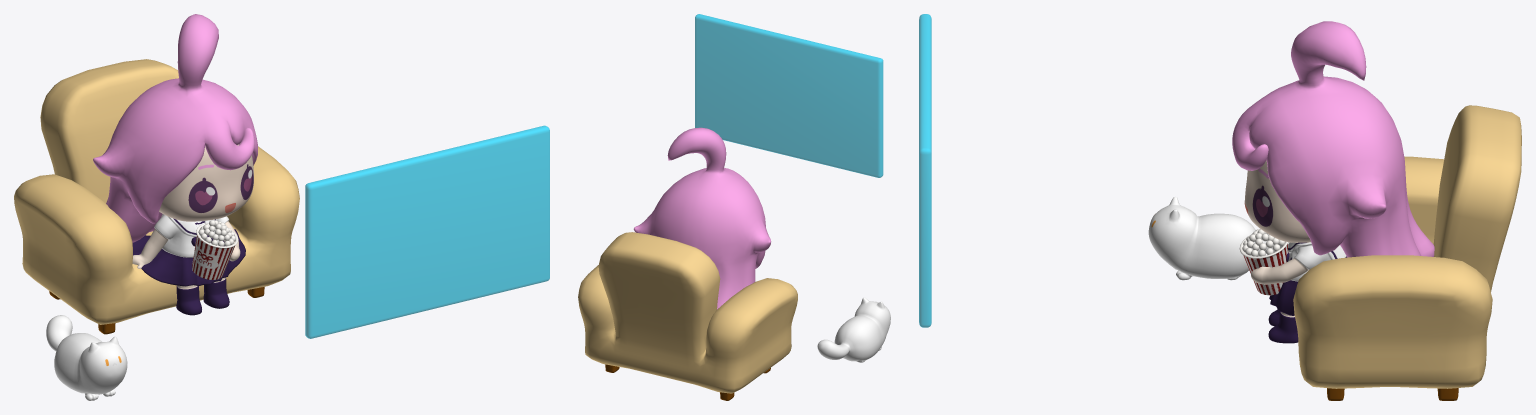
File: SEMANG_JING.glb
3 renders of one model, left to right at view 1: azimuth 30°, elevation 25°; view 2: azimuth 150°, elevation 25°; view 3: azimuth 270°, elevation 25°, orthographic. The views are drawn at different scales.
Visible parts, largest first — view 1: Box025, Box021, 444444, Box004, 789, Cylinder001; view 2: Box021, Box025, 444444, 789; view 3: Box021, 444444, 789, Box025, Box004, Cylinder001.
Part boxes in pixels (bbox=[...]): Box025: bbox=[305, 125, 549, 338]; Box021: bbox=[14, 59, 299, 334]; 444444: bbox=[93, 14, 257, 242]; Box004: bbox=[132, 214, 245, 315]; 789: bbox=[46, 315, 127, 400]; Cylinder001: bbox=[192, 220, 238, 279]; Box021: bbox=[578, 232, 797, 400]; Box025: bbox=[695, 14, 883, 177]; 444444: bbox=[633, 127, 771, 309]; 789: bbox=[817, 297, 890, 362]; Box021: bbox=[1293, 105, 1521, 400]; 444444: bbox=[1232, 21, 1434, 257]; 789: bbox=[1148, 197, 1282, 280]; Box025: bbox=[919, 14, 931, 327]; Box004: bbox=[1251, 242, 1346, 343]; Cylinder001: bbox=[1239, 229, 1288, 295].
Bounding box in the file's own units: 0.4055 × 0.3148 × 0.5036.
Materials: 6 (6 with a texture image).
